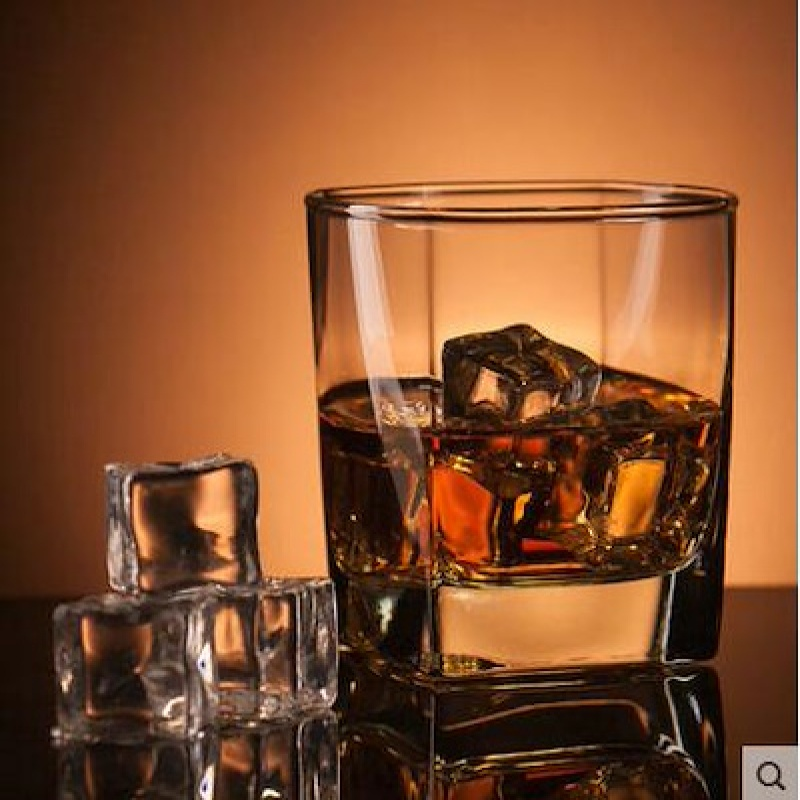whiskey: (331, 176, 742, 698)
